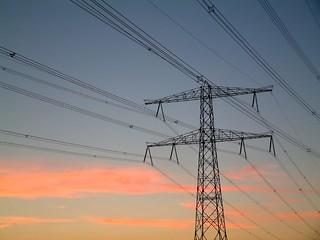power_tower: (141, 79, 278, 240)
